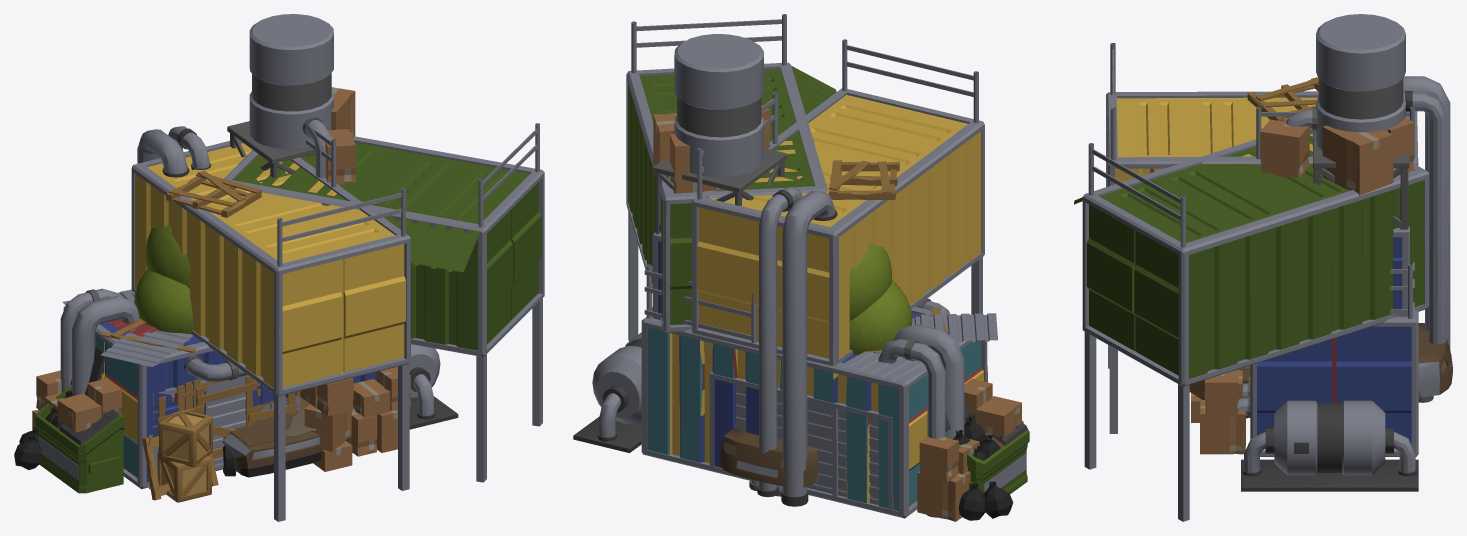
The model's file is props.glb.
The picture shows the model from 3 angles, left to right: view 1: azimuth 30°, elevation 25°; view 2: azimuth 150°, elevation 25°; view 3: azimuth 270°, elevation 25°; orthographic projection. The views are drawn at different scales.
Parts seen in each view (by area): view 1: Structure_4, Structure_2, Structure_3, Structure_1, Debris_BrokenCar, Tree_3, Tree_1; view 2: Structure_4, Structure_2, Structure_3, Structure_1, Debris_BrokenCar, Tree_3, Tree_1; view 3: Structure_2, Structure_4, Structure_3, Debris_BrokenCar, Structure_1.
Boxes of the visible parts, x1,y1,x2,y2 form: Structure_4: (14, 126, 458, 521); Structure_2: (60, 87, 544, 502); Structure_3: (32, 14, 376, 489); Structure_1: (36, 289, 355, 496); Debris_BrokenCar: (222, 408, 321, 477); Tree_3: (134, 270, 192, 333); Tree_1: (145, 225, 189, 288); Structure_4: (573, 39, 1029, 520); Structure_2: (626, 14, 997, 517); Structure_3: (641, 34, 1004, 521); Structure_1: (642, 264, 1021, 521); Debris_BrokenCar: (720, 428, 819, 487); Tree_3: (849, 280, 912, 354); Tree_1: (849, 242, 891, 320); Structure_2: (1074, 118, 1429, 521); Structure_4: (1106, 43, 1450, 491); Structure_3: (1237, 14, 1418, 456); Debris_BrokenCar: (1240, 323, 1452, 418); Structure_1: (1238, 262, 1418, 456).
Size of the model in its own units: 11.86 by 9.65 by 8.48.
